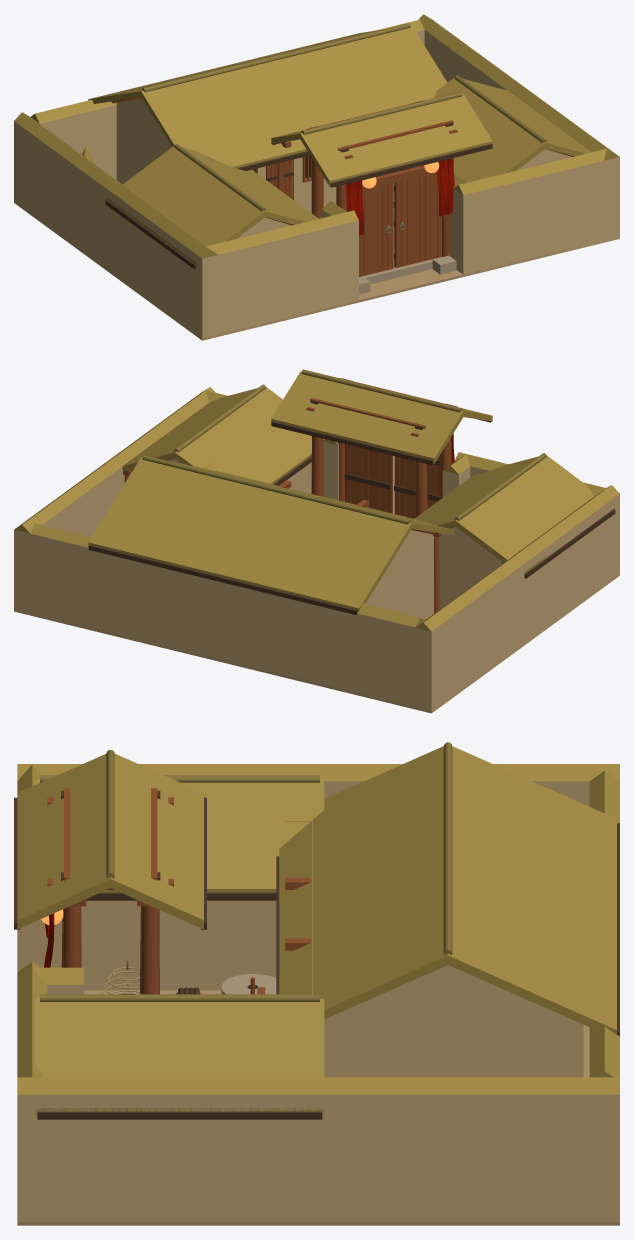
File: xy_gaolaozhuang.glb
The picture shows the model from 3 angles, top to bottom: view 1: azimuth 30°, elevation 25°; view 2: azimuth 150°, elevation 25°; view 3: azimuth 270°, elevation 25°; orthographic projection. The views are drawn at different scales.
Visible parts, largest first — view 1: xy_gaolaozhuang; view 2: xy_gaolaozhuang; view 3: xy_gaolaozhuang.
Part boxes in pixels (x1,y1,x2,y2): xy_gaolaozhuang: [14, 14, 619, 340]; xy_gaolaozhuang: [14, 369, 619, 713]; xy_gaolaozhuang: [14, 742, 619, 1225].
Size of the model in its own units: 22 by 7.84 by 17.14.
